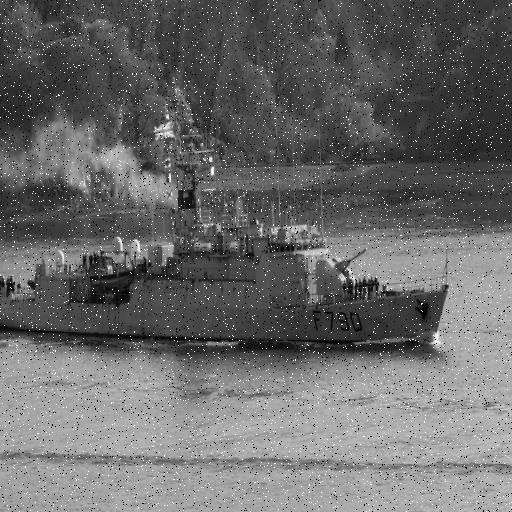Fragata: (1, 80, 453, 352)
